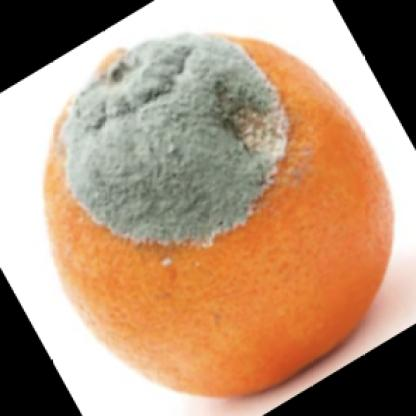rotten: (44, 32, 394, 397)
